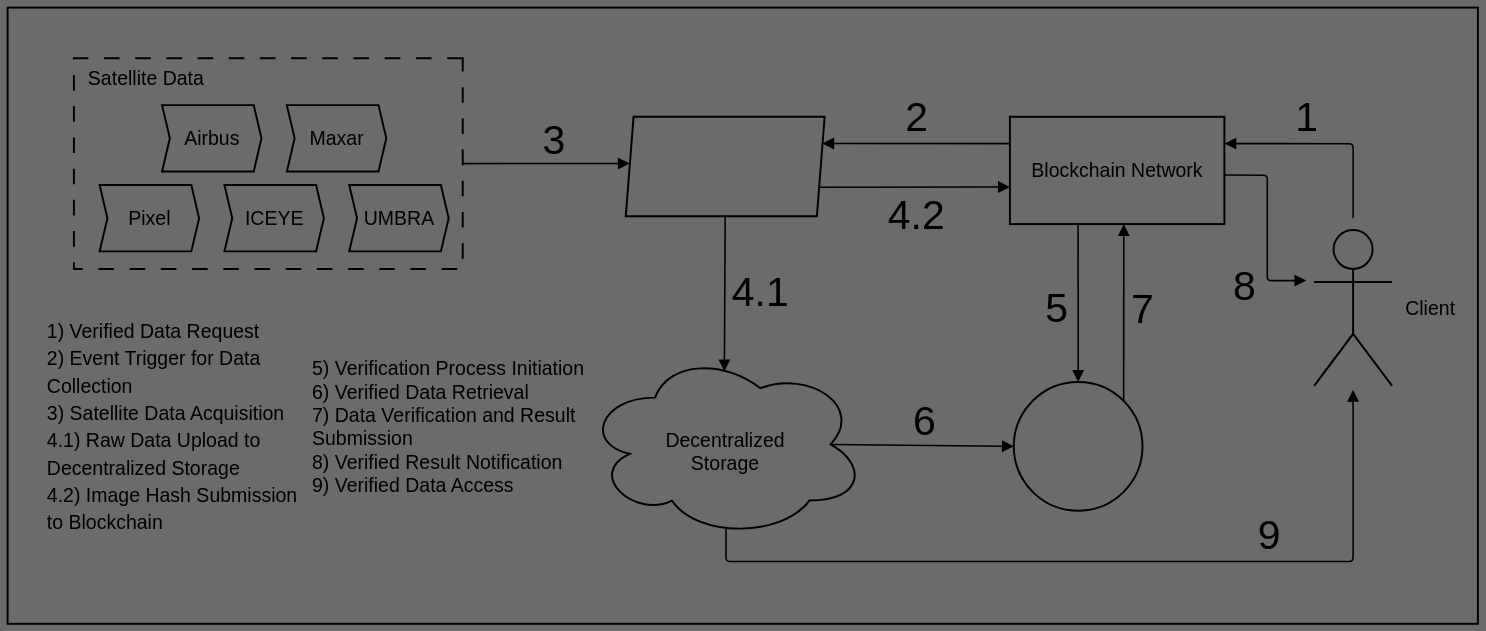
Image size: 1486x631. Some labels were removed from this diagram. Each missing label, with the box of its shape:
Data Aggregator: (625, 116, 825, 217)
Verification Service: (1013, 381, 1143, 511)
